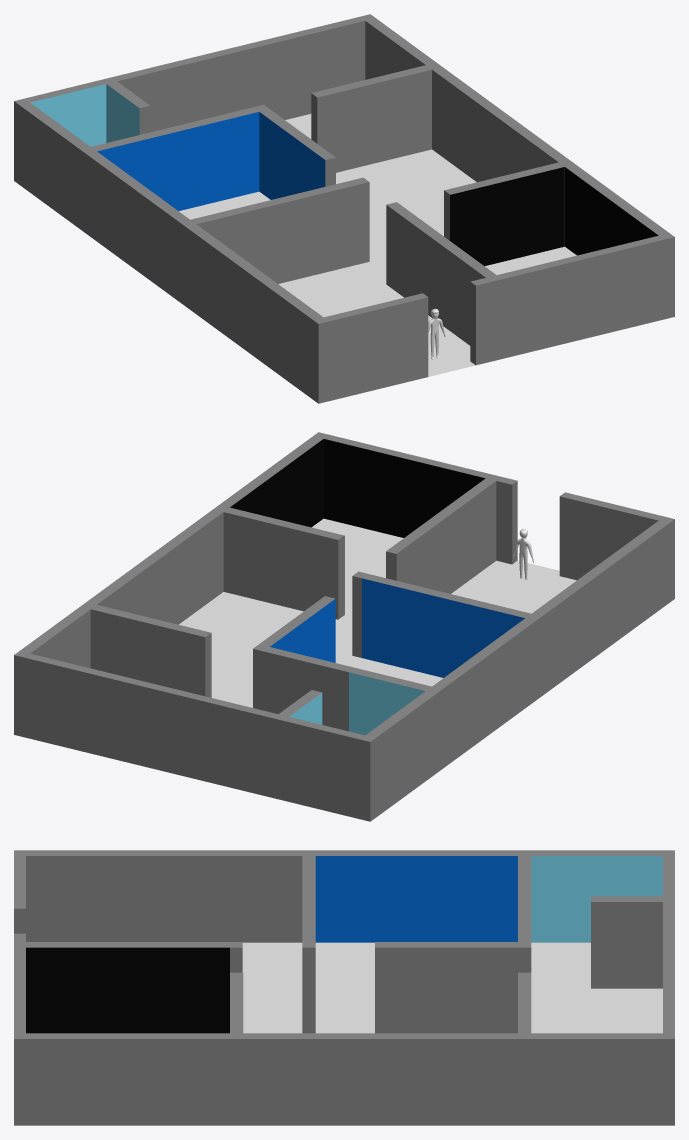
File: Rumah.glb
3 renders of one model, top to bottom at view 1: azimuth 30°, elevation 25°; view 2: azimuth 150°, elevation 25°; view 3: azimuth 270°, elevation 25°, orthographic. The views are drawn at different scales.
Parts seen in each view (by area): view 1: tembok rumah kiri.002, tembok rumah kanan.002, tembok rumah belakang.002, Plane.001, tembok kamar mc kiri dari pintu dan tembok depan ruang tamu., tembok kamar tio dari sisi dapur dan kamar mandi.002, tembok dapur dan ruang keluarga.002, tembok kamar ortu kiri dari pintu.002, tembok kamar ortu kanan dari pintu dan ruang tamu.002, tembok rumah depan.002, tembok kamar mc dari kanan.002, tembok wc.002; view 2: tembok rumah kiri.002, tembok rumah belakang.002, tembok rumah kanan.002, Plane.001, tembok kamar mc kiri dari pintu dan tembok depan ruang tamu., tembok kamar ortu kiri dari pintu.002, tembok kamar tio dari sisi dapur dan kamar mandi.002, tembok dapur dan ruang keluarga.002, tembok kamar ortu kanan dari pintu dan ruang tamu.002, tembok rumah depan.002, tembok kamar mc dari kanan.002, tembok wc.002; view 3: tembok rumah kanan.002, tembok rumah kiri.002, Plane.001, tembok kamar ortu kanan dari pintu dan ruang tamu.002, tembok kamar mc dari kanan.002, tembok wc.002, tembok kamar mc kiri dari pintu dan tembok depan ruang tamu., tembok rumah belakang.002, tembok kamar tio dari sisi dapur dan kamar mandi.002, tembok kamar ortu kiri dari pintu.002, tembok dapur dan ruang keluarga.002, tembok rumah depan.002.
Part boxes in pixels (<box>): tembok rumah kiri.002: <box>14,98,428,403</box>; tembok rumah kanan.002: <box>360,14,674,345</box>; tembok rumah belakang.002: <box>25,16,365,146</box>; Plane.001: <box>179,114,576,376</box>; tembok kamar mc kiri dari pintu dan tembok depan ruang tamu.: <box>190,177,369,283</box>; tembok kamar tio dari sisi dapur dan kamar mandi.002: <box>91,104,269,210</box>; tembok dapur dan ruang keluarga.002: <box>311,65,431,172</box>; tembok kamar ortu kiri dari pintu.002: <box>444,162,564,266</box>; tembok kamar ortu kanan dari pintu dan ruang tamu.002: <box>386,202,496,345</box>; tembok rumah depan.002: <box>470,262,555,365</box>; tembok kamar mc dari kanan.002: <box>259,109,335,199</box>; tembok wc.002: <box>106,81,150,142</box>; tembok rumah kiri.002: <box>359,492,674,821</box>; tembok rumah belakang.002: <box>24,653,364,818</box>; tembok rumah kanan.002: <box>14,432,437,737</box>; Plane.001: <box>179,518,576,707</box>; tembok kamar mc kiri dari pintu dan tembok depan ruang tamu.: <box>352,571,530,677</box>; tembok kamar ortu kiri dari pintu.002: <box>223,507,344,619</box>; tembok kamar tio dari sisi dapur dan kamar mandi.002: <box>253,644,431,735</box>; tembok dapur dan ruang keluarga.002: <box>90,605,211,697</box>; tembok kamar ortu kanan dari pintu dan ruang tamu.002: <box>386,478,496,593</box>; tembok rumah depan.002: <box>432,461,517,564</box>; tembok kamar mc dari kanan.002: <box>259,596,335,662</box>; tembok wc.002: <box>279,690,322,724</box>; tembok rumah kanan.002: <box>14,976,674,1125</box>; tembok rumah kiri.002: <box>14,850,674,942</box>; Plane.001: <box>242,942,662,1033</box>; tembok kamar ortu kanan dari pintu dan ruang tamu.002: <box>26,942,242,1033</box>; tembok kamar mc dari kanan.002: <box>375,942,517,1033</box>; tembok wc.002: <box>591,896,662,988</box>; tembok kamar mc kiri dari pintu dan tembok depan ruang tamu.: <box>302,856,315,1033</box>; tembok rumah belakang.002: <box>663,856,674,1033</box>; tembok kamar tio dari sisi dapur dan kamar mandi.002: <box>518,856,531,972</box>; tembok kamar ortu kiri dari pintu.002: <box>230,972,243,1033</box>; tembok dapur dan ruang keluarga.002: <box>518,972,531,1033</box>; tembok rumah depan.002: <box>14,933,25,975</box>.
Bounding box in the file's own units: 12.62 × 2.7 × 18.68.
